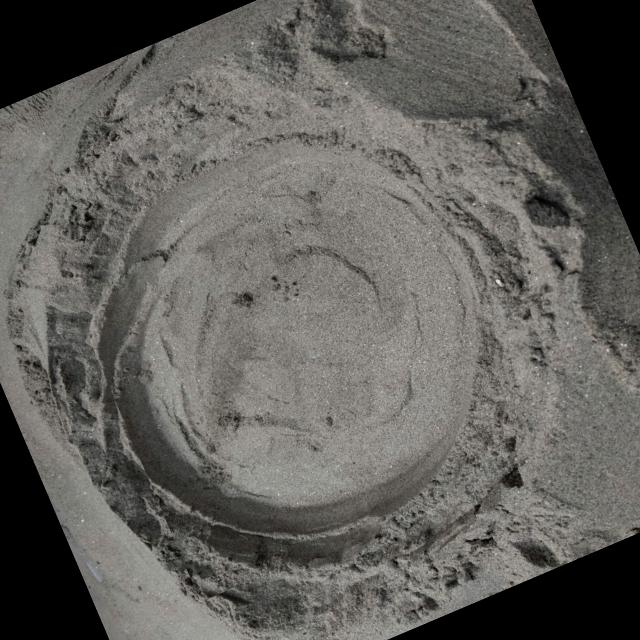C40: (102, 143, 484, 561)
